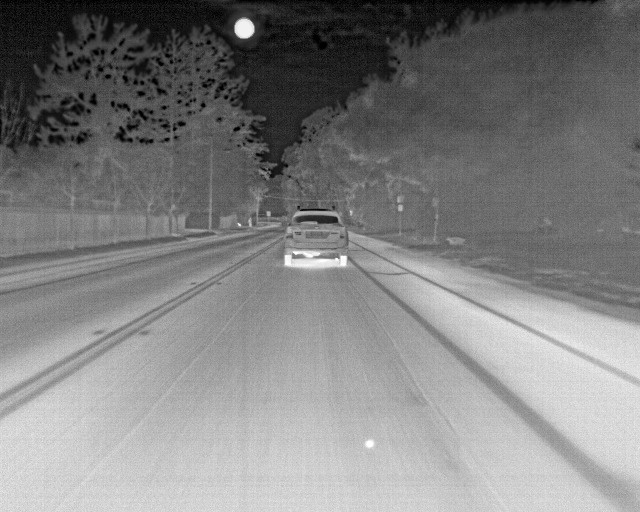vehicle: (284, 211, 348, 268)
